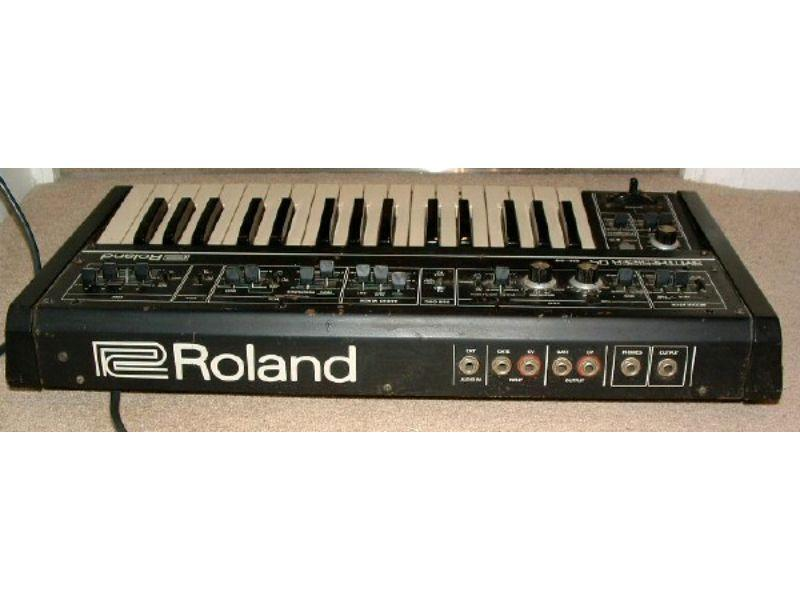synthesizer: (13, 184, 788, 407)
